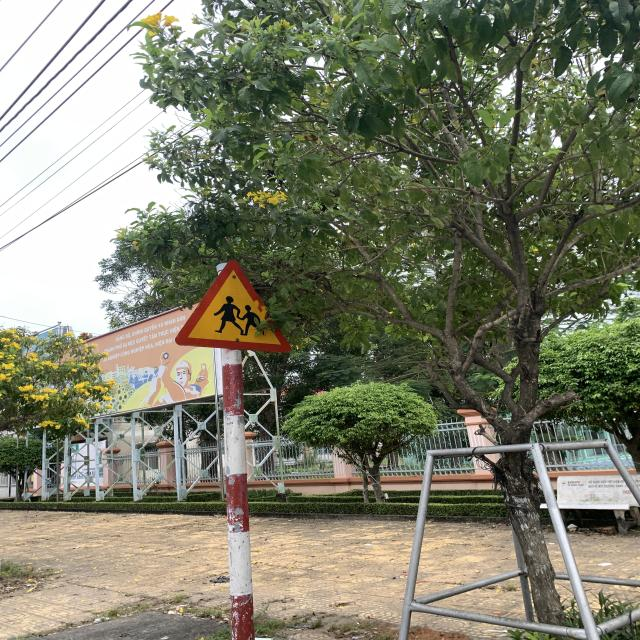Vong_Xuyen: (171, 259, 293, 353)
